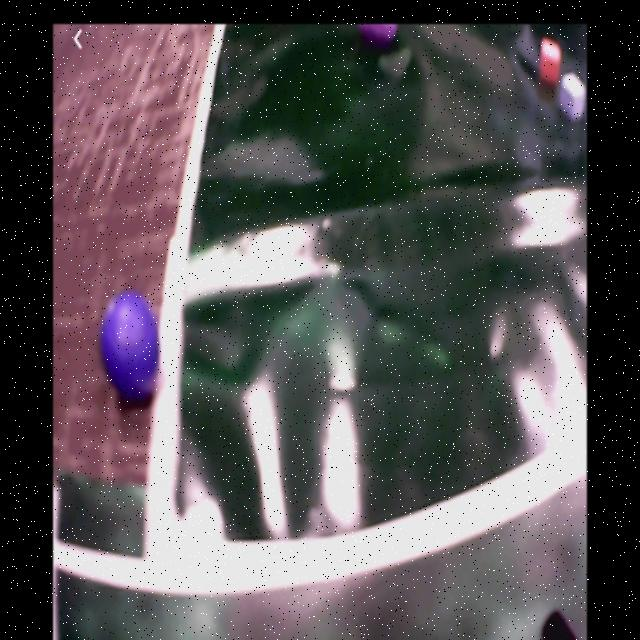ball: (100, 296, 159, 399), (360, 25, 397, 45)
